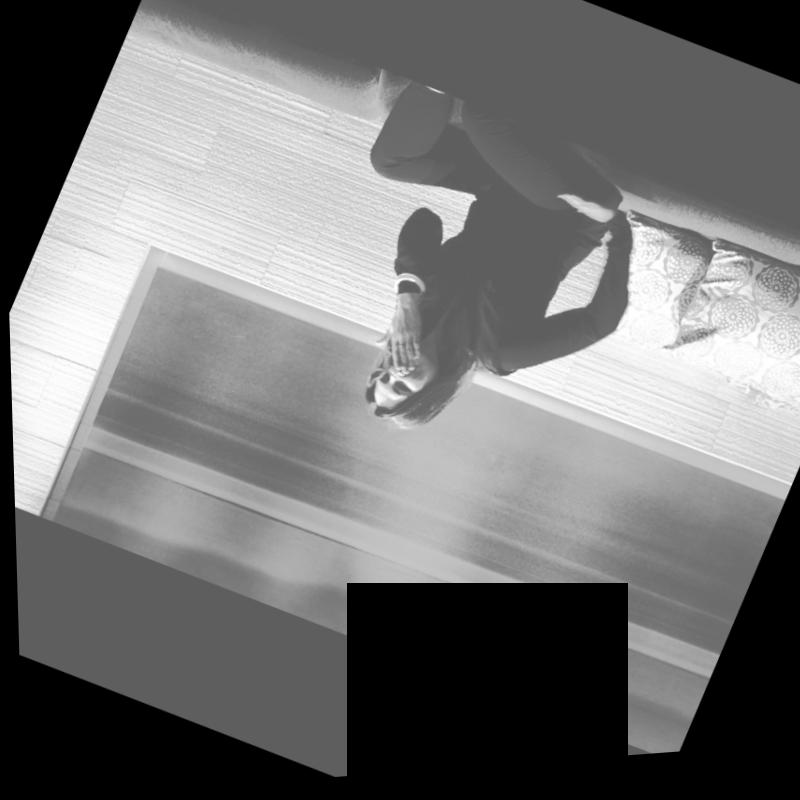pillow: (569, 206, 795, 414), (664, 242, 800, 431), (749, 396, 800, 441)
